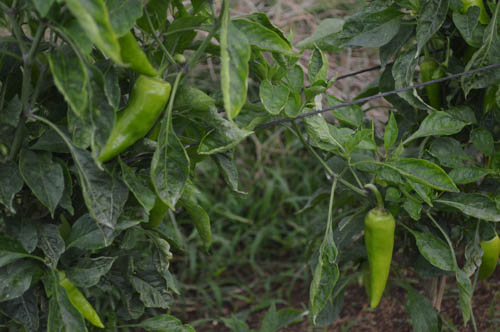ChiliPepper: (93, 78, 168, 163), (362, 211, 397, 308), (54, 277, 105, 327), (421, 61, 444, 108), (480, 235, 500, 285)
